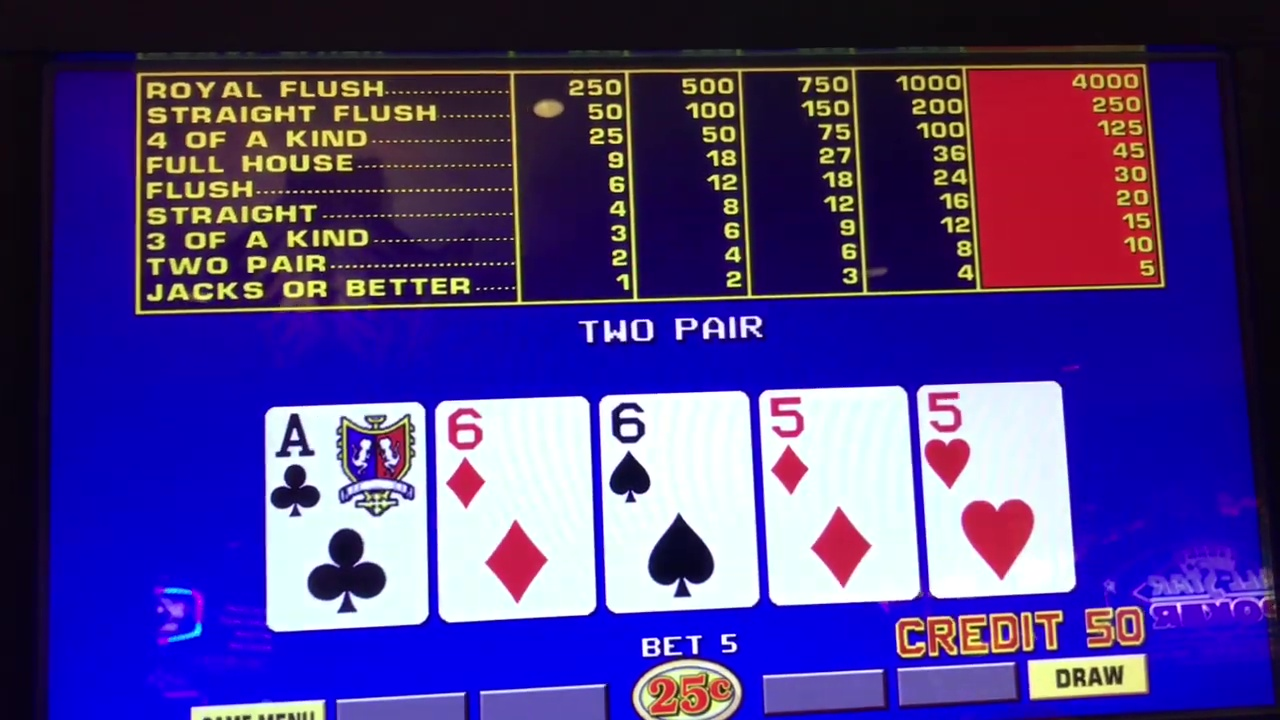CA: (268, 401, 419, 512)
D5: (767, 390, 907, 494)
D6: (438, 402, 591, 509)
H3: (929, 383, 1064, 487)
S6: (608, 398, 752, 502)
